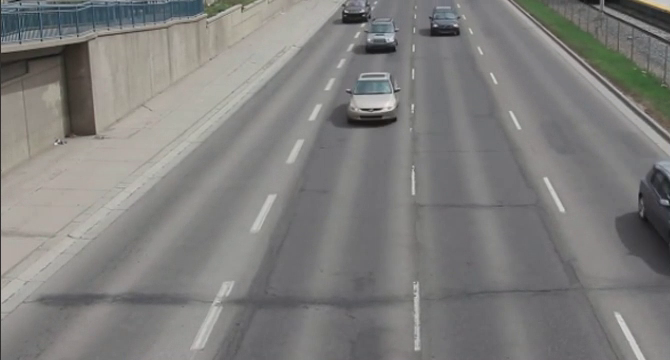car: (343, 73, 402, 130), (634, 159, 670, 242), (425, 3, 466, 39), (365, 20, 402, 51), (341, 1, 370, 27)
